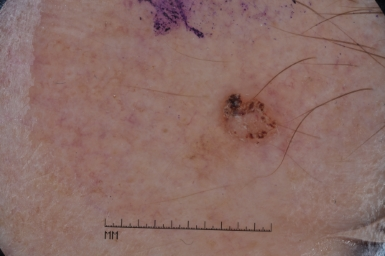seborrheic keratosis: (163, 70, 311, 186)
